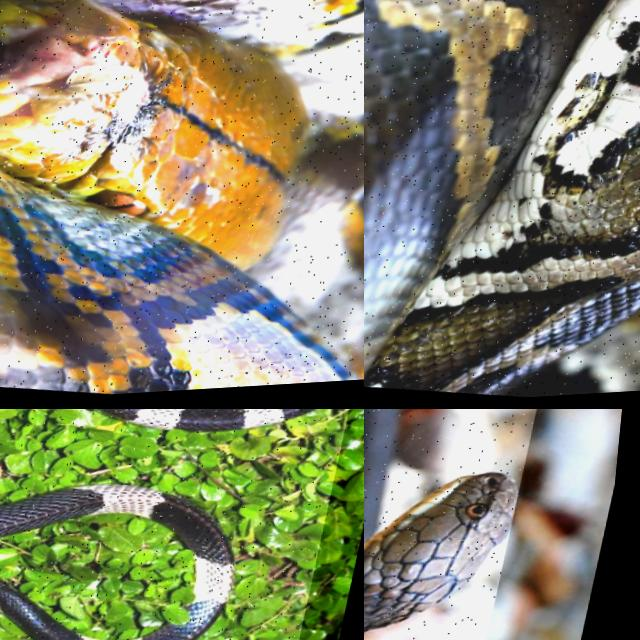Bungarus candidus: (0, 485, 232, 639)
Malayopython reticulatus: (0, 0, 363, 394)
Ophiophagus hannah: (364, 472, 516, 630)
Python bivittatus: (364, 0, 639, 397)
